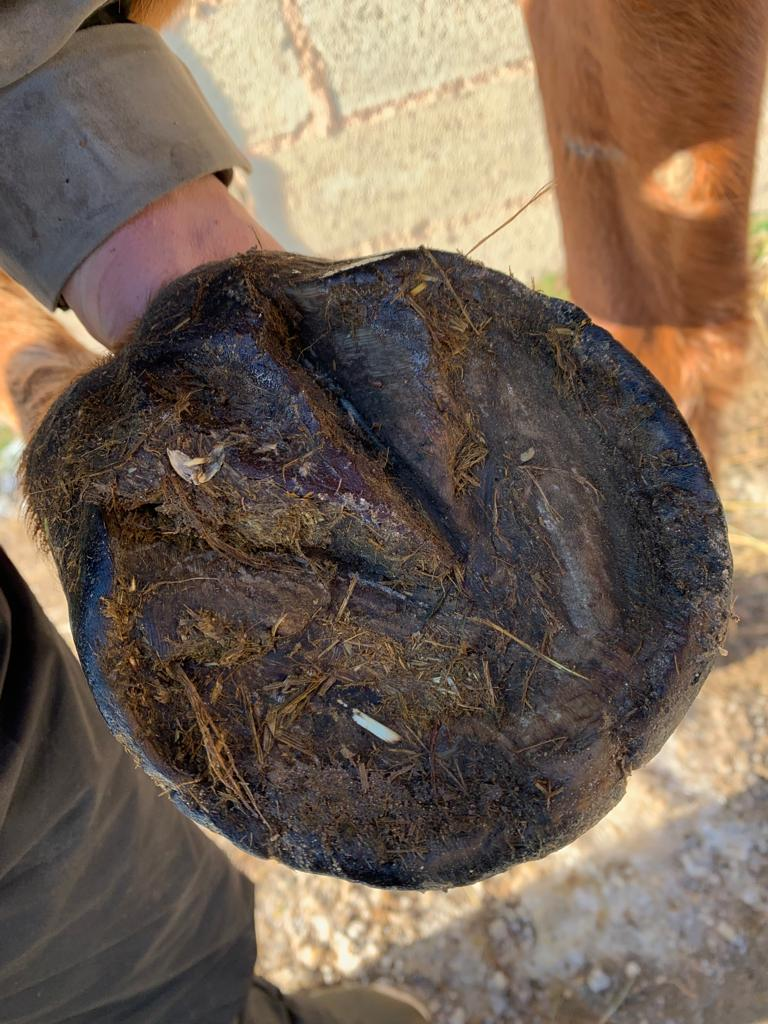horsesole: (75, 248, 732, 891)
